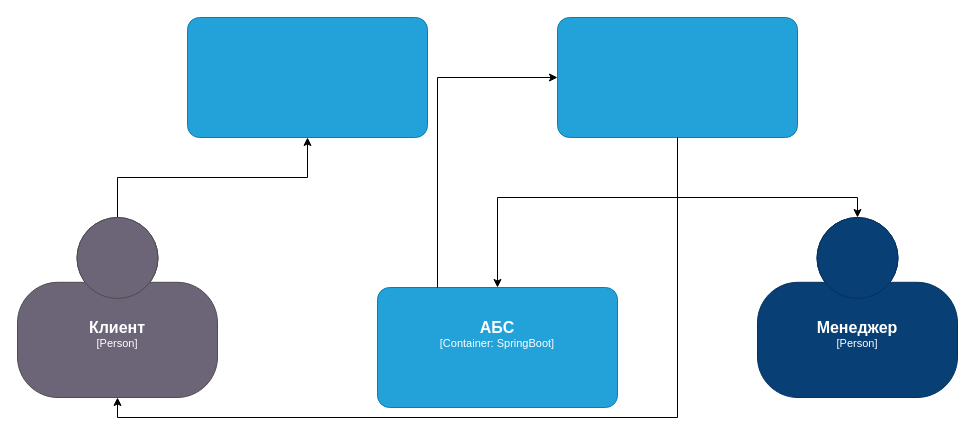
The diagram is 975 pixels wide and 443 high, and some of its shapes have lost their labels. Each missing label, with the box of its shape:
Интернет банк [Container: SpringBoot]: (186, 16, 428, 138)
СМС шлюз [Container: SpringBoot]: (556, 16, 798, 138)
